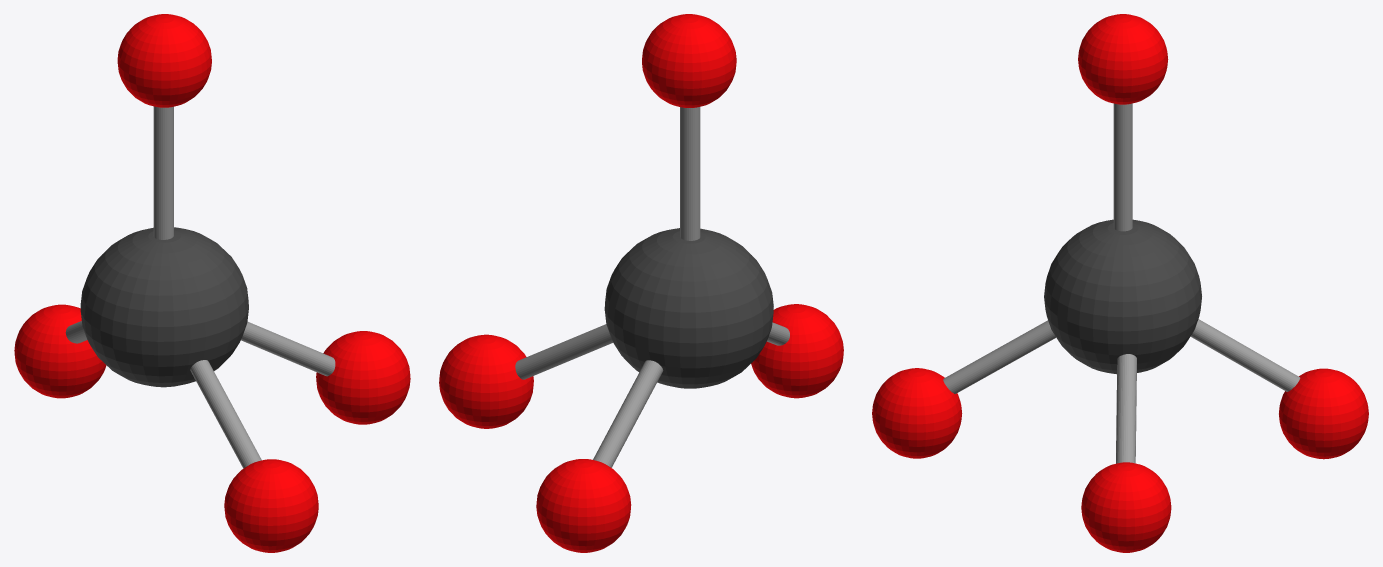
3 renders of one model, left to right at view 1: azimuth 30°, elevation 25°; view 2: azimuth 150°, elevation 25°; view 3: azimuth 270°, elevation 25°, orthographic. The views are drawn at different scales.
Parts seen in each view (by area): view 1: Sphere, Sphere.002, Sphere.001, Sphere.003, Sphere.004, Cylinder, Cylinder.001, Cylinder.003; view 2: Sphere, Sphere.004, Sphere.001, Sphere.003, Sphere.002, Cylinder, Cylinder.002, Cylinder.003; view 3: Sphere, Sphere.003, Sphere.001, Sphere.002, Sphere.004, Cylinder, Cylinder.001, Cylinder.002, Cylinder.003.
Part boxes in pixels (<box>): Sphere: <box>80,227,248,387</box>; Sphere.002: <box>224,459,318,552</box>; Sphere.001: <box>117,14,211,107</box>; Sphere.003: <box>316,331,410,424</box>; Sphere.004: <box>14,304,106,398</box>; Cylinder: <box>153,106,173,239</box>; Cylinder.001: <box>190,360,261,468</box>; Cylinder.003: <box>241,321,335,376</box>; Sphere: <box>604,228,773,388</box>; Sphere.004: <box>536,459,631,552</box>; Sphere.001: <box>642,14,736,107</box>; Sphere.003: <box>439,334,533,428</box>; Sphere.002: <box>751,304,843,398</box>; Cylinder: <box>680,107,700,240</box>; Cylinder.002: <box>593,360,663,467</box>; Cylinder.003: <box>515,324,612,379</box>; Sphere: <box>1044,219,1201,374</box>; Sphere.003: <box>1081,462,1171,552</box>; Sphere.001: <box>1078,14,1168,104</box>; Sphere.002: <box>872,368,962,458</box>; Sphere.004: <box>1279,368,1368,459</box>; Cylinder: <box>1113,103,1132,231</box>; Cylinder.001: <box>943,320,1055,393</box>; Cylinder.002: <box>1190,319,1300,391</box>; Cylinder.003: <box>1116,354,1136,463</box>.
Bounding box in the file's own units: 9.95 × 13.63 × 14.07.
